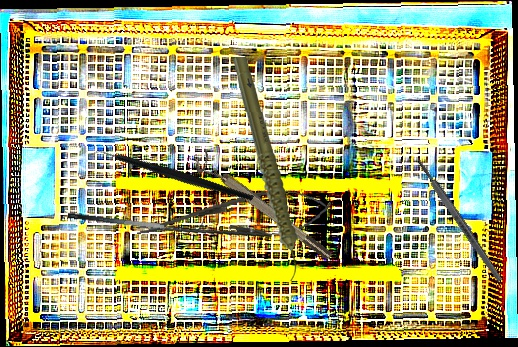Chopper: (86, 101, 255, 253)
Fixation Ring: (190, 149, 336, 269)
Handpiece: (230, 55, 301, 283)
Needle Holder: (133, 182, 335, 253)
Scalpel Handle: (415, 158, 504, 284)
Spatula Surgical: (67, 200, 204, 238)
